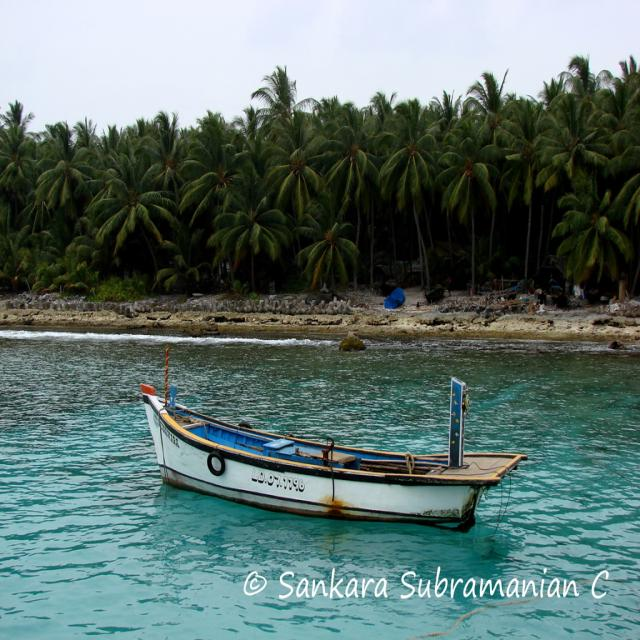Boat: (134, 358, 528, 524)
